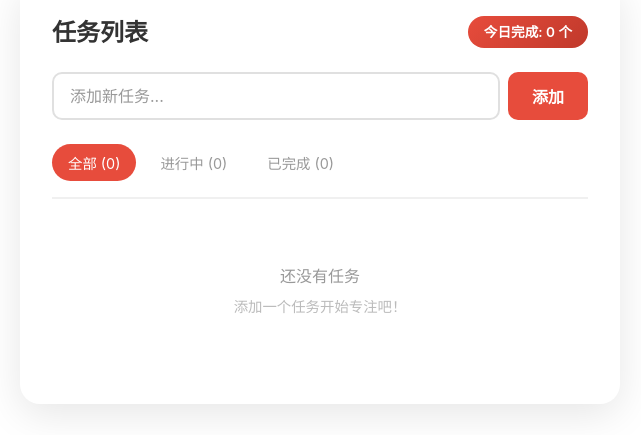
Test: TaskList › add task › adds a new task via form submit
This screenshot has width=641, height=435.
Type "New Task" into the field with placeholder "添加新任务...".
click(276, 96); type("New Task")  # box [52,72,500,120]
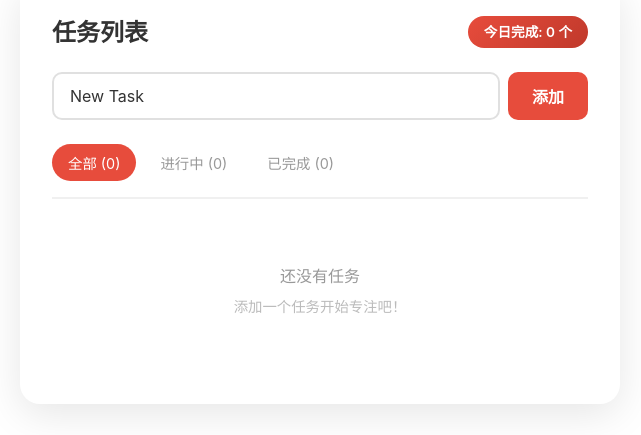
Submit the form with placeholder "添加新任务...", box [52,72,588,120]
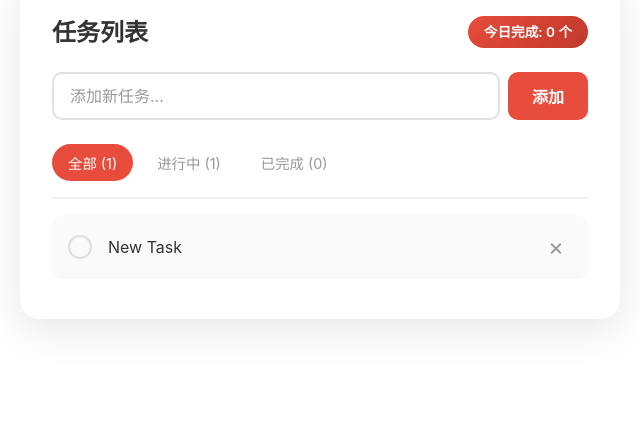
Expected: the text "New Task" is shown, [108,237,182,257]
